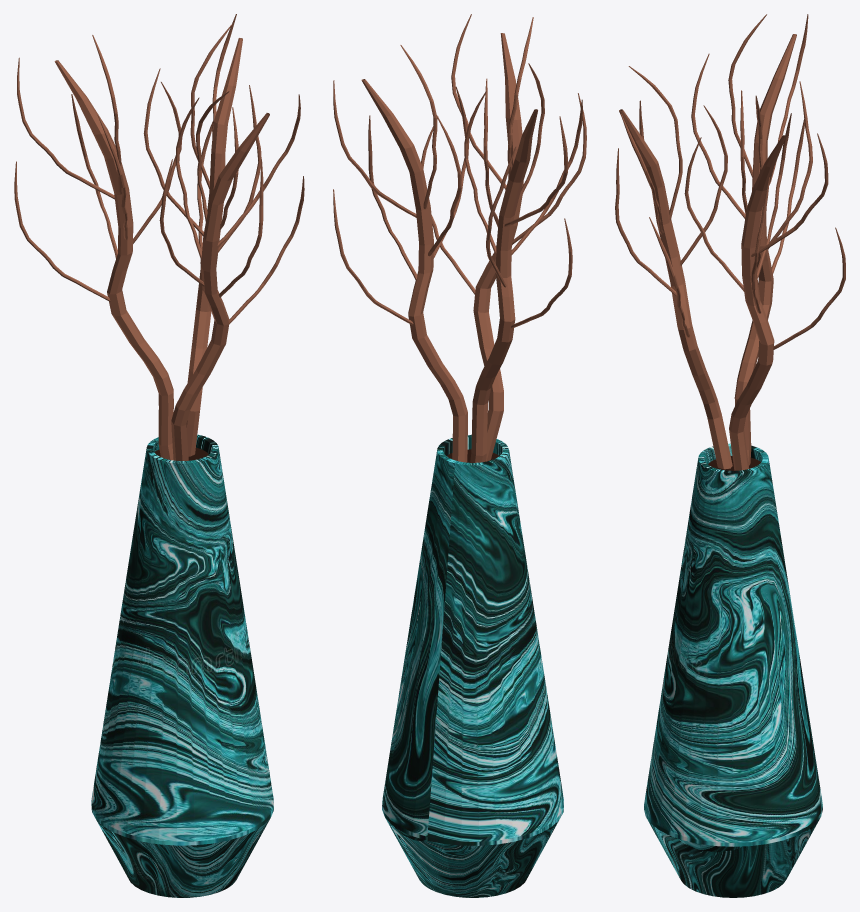
The model's file is vase4.glb.
The picture shows the model from 3 angles, left to right: view 1: azimuth 30°, elevation 25°; view 2: azimuth 150°, elevation 25°; view 3: azimuth 270°, elevation 25°; orthographic projection. The views are drawn at different scales.
Parts seen in each view (by area): view 1: Cylinder, Circle.001, Circle.002, Circle; view 2: Cylinder, Circle, Circle.001, Circle.002; view 3: Cylinder, Circle, Circle.002, Circle.001.
Part boxes in pixels (x1,y1,x2,y2): Cylinder: (91, 434, 273, 897); Circle.001: (14, 35, 182, 460); Circle.002: (159, 91, 304, 460); Circle: (143, 14, 261, 456); Cylinder: (382, 435, 563, 897); Circle: (333, 45, 469, 462); Circle.001: (464, 63, 582, 462); Circle.002: (421, 14, 586, 461); Cylinder: (644, 443, 822, 897); Circle: (684, 95, 845, 470); Circle.002: (615, 66, 732, 469); Circle.001: (691, 14, 812, 465).
Bounding box in the file's own units: 2.91 × 10.18 × 2.58.
3 materials, 1 textured.
